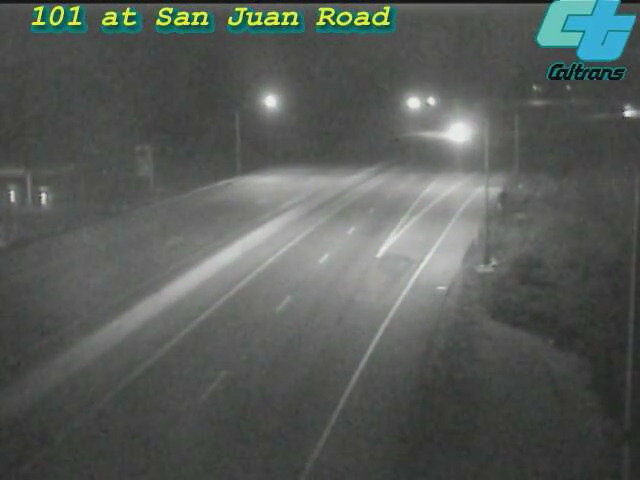vehicle: (431, 107, 481, 157), (609, 85, 640, 135)
